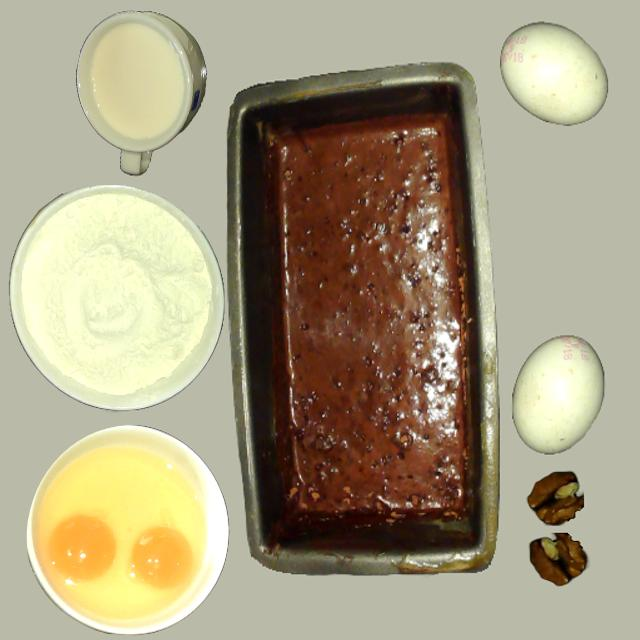Egg: (50, 515, 116, 581), (131, 528, 191, 588)
Flour: (8, 187, 220, 410)
Milk: (91, 23, 182, 139)
